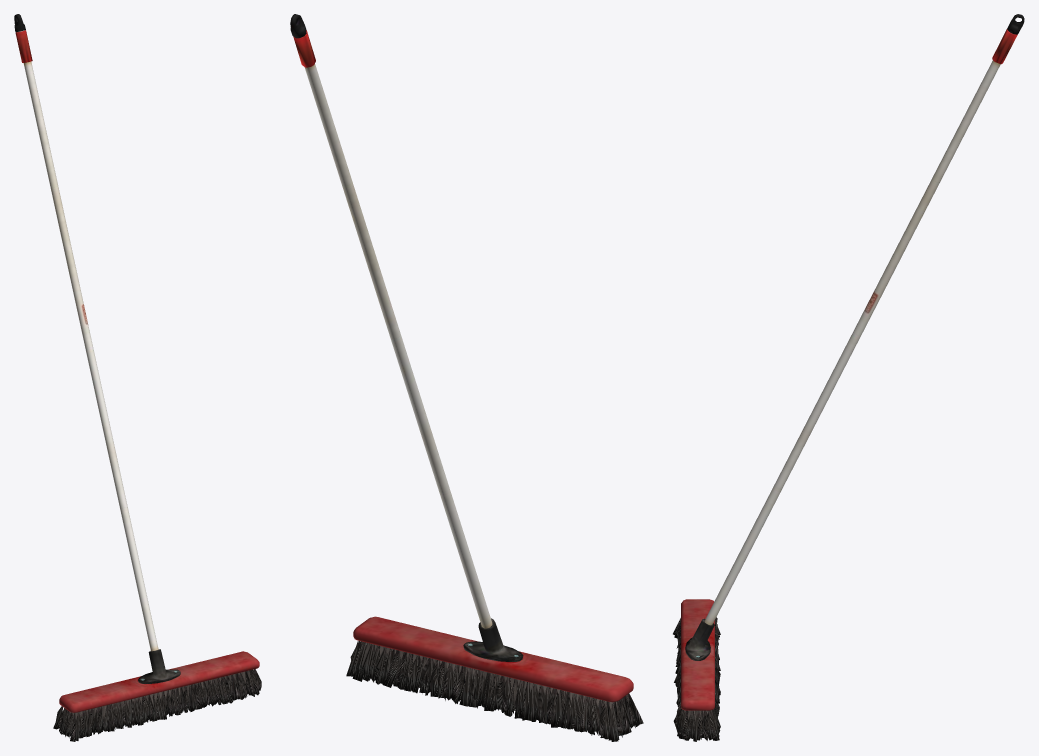
Rendered from broom.glb.
3 views of the same model, side by side, from view 1: azimuth 30°, elevation 25°; view 2: azimuth 150°, elevation 25°; view 3: azimuth 270°, elevation 25° (orthographic). The views are drawn at different scales.
Parts seen in each view (by area): view 1: plastic_broom; view 2: plastic_broom; view 3: plastic_broom.
Part boxes in pixels (left/top/right/bottom): plastic_broom: left=14, top=14, right=261, bottom=741; plastic_broom: left=290, top=14, right=643, bottom=741; plastic_broom: left=673, top=14, right=1024, bottom=741.
Bounding box in the file's own units: 0.416 × 1.2 × 0.5665.
Materials: 2 (2 with a texture image).
